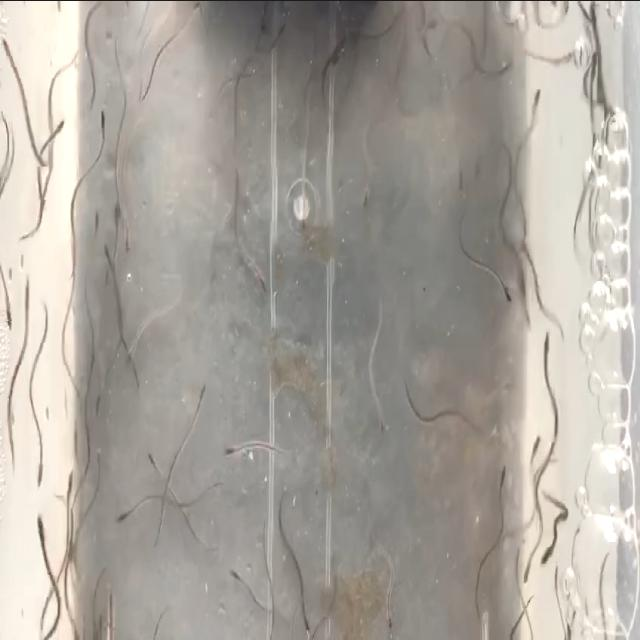active_glass_eel: (30, 504, 49, 558), (527, 87, 546, 135), (538, 531, 558, 575), (32, 446, 50, 494), (60, 468, 80, 510), (222, 430, 246, 464), (18, 273, 36, 318), (0, 20, 16, 70), (49, 108, 71, 144), (118, 211, 136, 255), (252, 266, 274, 302), (0, 288, 14, 342), (478, 410, 500, 444), (106, 585, 120, 638), (360, 173, 376, 219), (529, 424, 547, 464), (374, 398, 390, 440), (452, 143, 466, 191), (87, 204, 102, 248), (540, 323, 552, 378), (93, 103, 109, 143), (110, 189, 126, 229), (496, 54, 516, 84), (584, 46, 600, 82), (196, 378, 210, 418), (270, 18, 290, 46), (89, 383, 103, 422), (384, 598, 397, 640), (498, 272, 514, 306), (116, 504, 134, 534), (298, 610, 316, 640), (146, 446, 160, 484), (519, 296, 533, 334), (496, 452, 509, 492), (91, 439, 103, 478), (123, 338, 138, 368), (227, 560, 244, 586), (68, 613, 82, 640), (520, 557, 533, 586)
